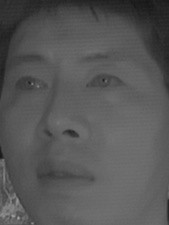eye: (13, 71, 50, 96), (85, 70, 125, 93)
mouth: (30, 156, 96, 194)
